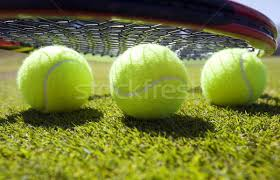tennis_ball: (109, 43, 188, 122), (16, 44, 94, 117), (201, 46, 267, 110)
